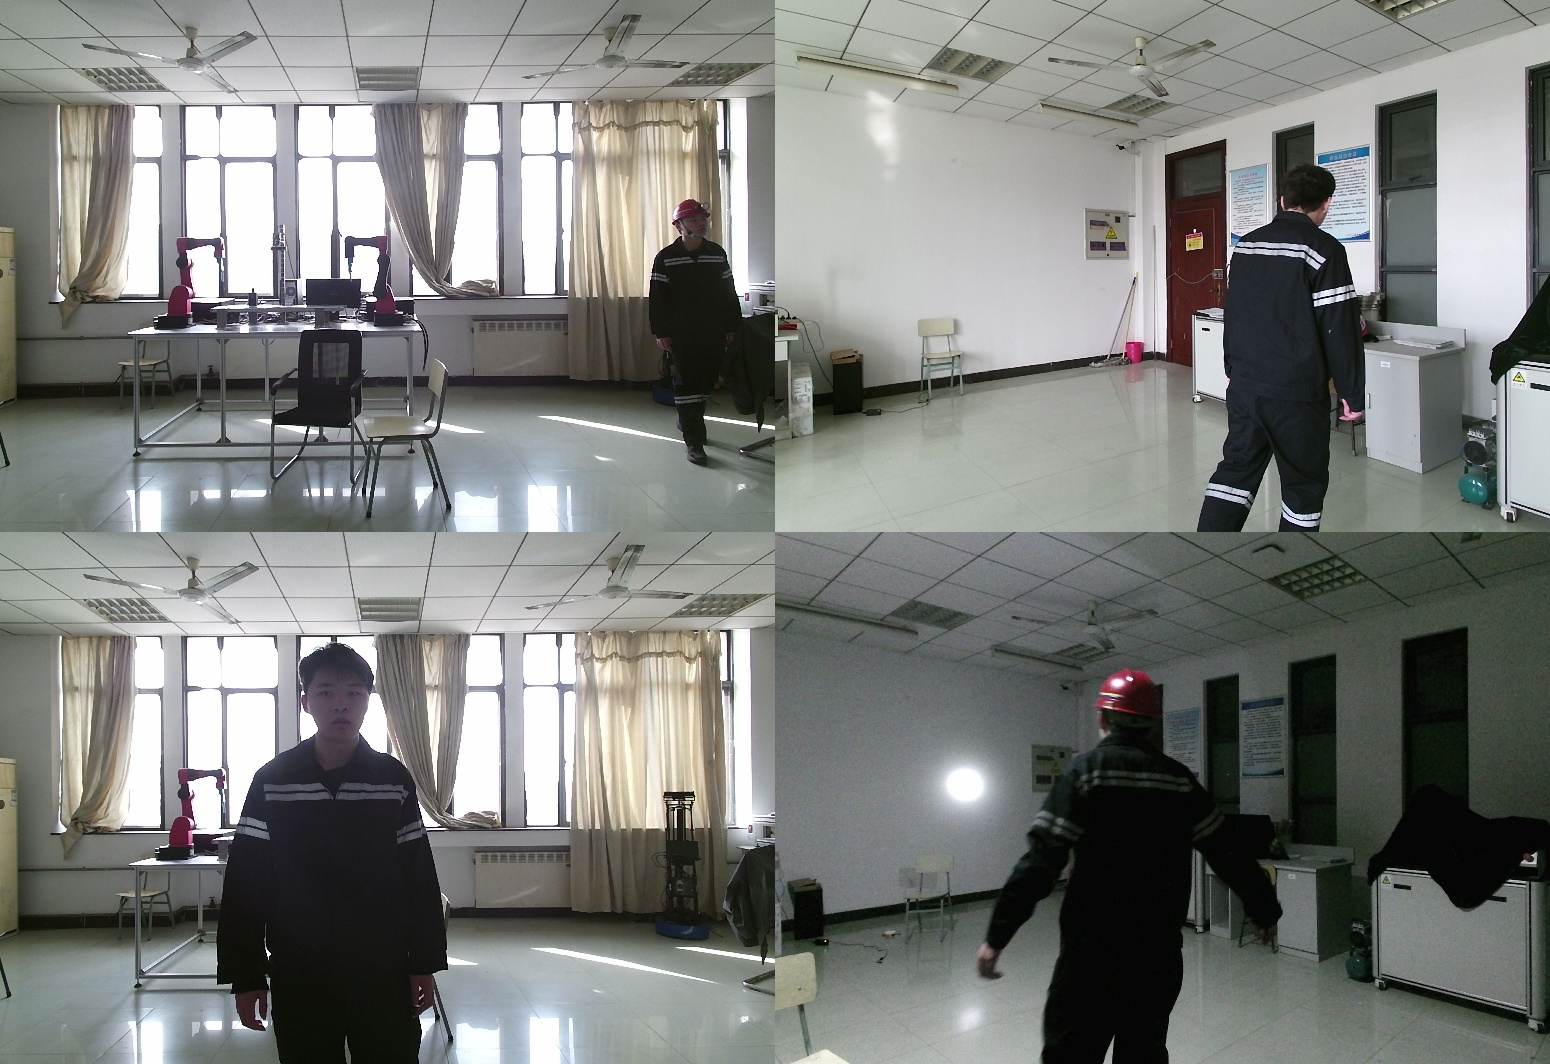person: (973, 666, 1295, 1064), (231, 645, 462, 1064), (1196, 166, 1365, 532), (648, 198, 742, 463)
